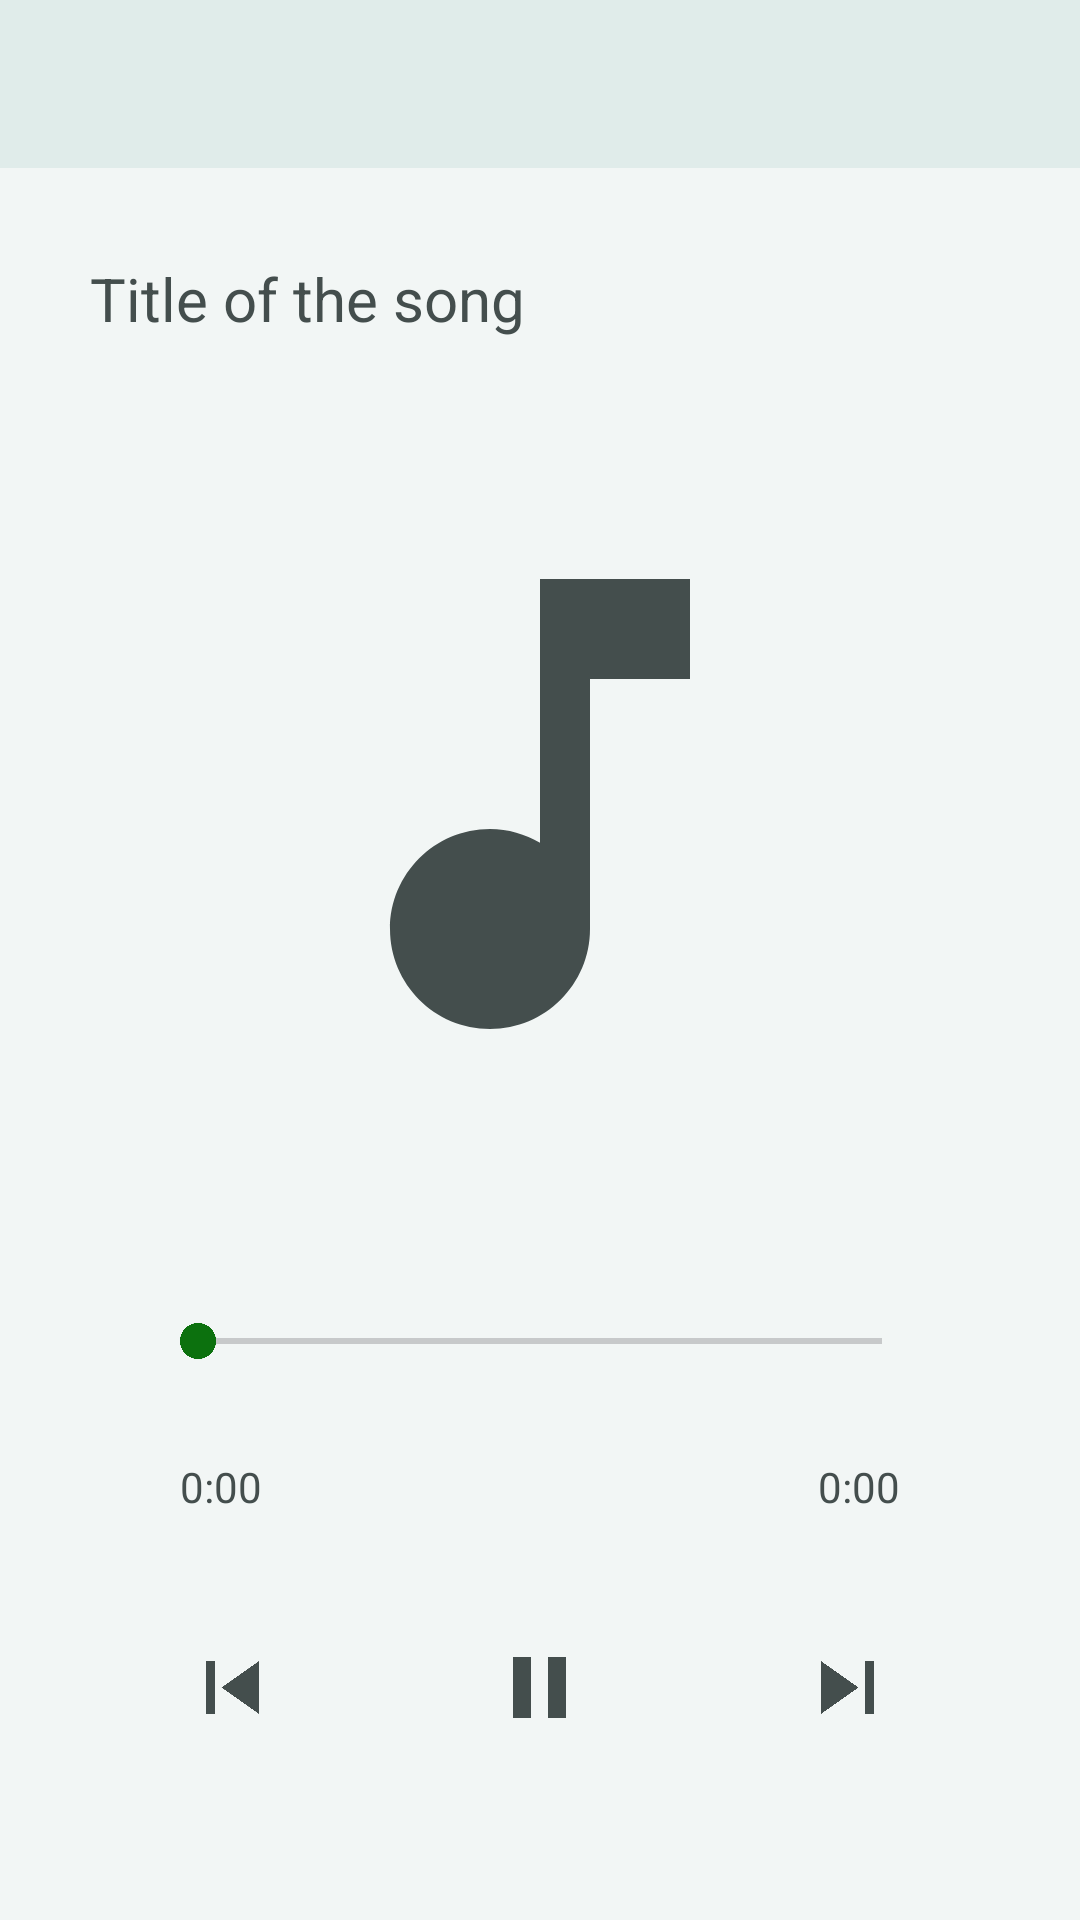

Screen size 1080px×1920px. Icon name, then its box in pixels as bbox(x1, y1, x2, y2):
next: bbox(821, 1661, 874, 1714)
pause: bbox(513, 1657, 566, 1718)
previous: bbox(206, 1661, 259, 1714)
